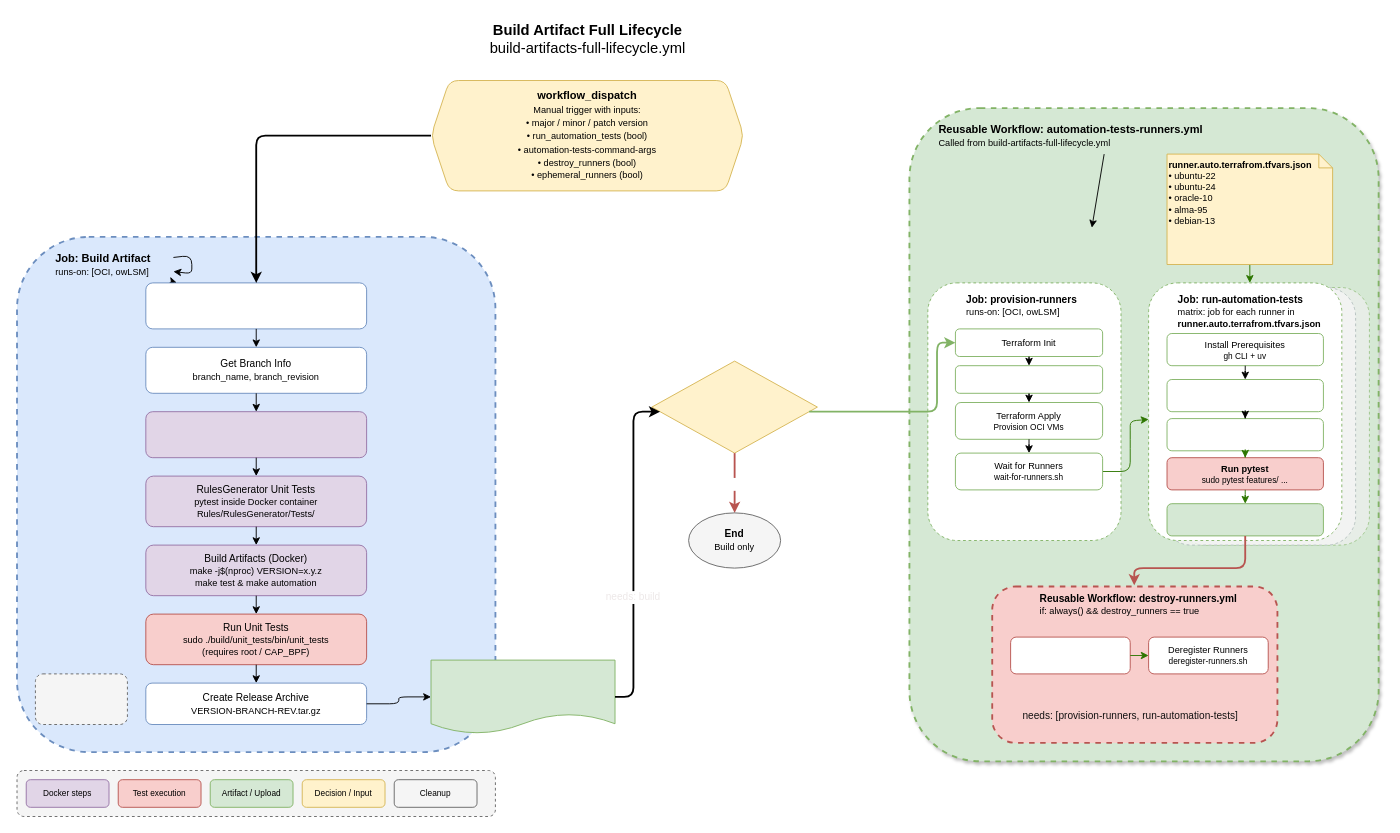
The diagram is 1400 pixels wide and 833 high, and some of its shapes have lost their labels. The centre of each missing label's shape, as x and y in pixels:
Build Docker Image owlsm-ci-ubuntu: pixel 256 434
Checkout Repository actions/checkout@v4: pixel 256 305
Cleanup docker rmi + git clean (always runs): pixel 80 698
Download Artifact GH API → /opt/owLSM: pixel 1244 395
run_automation_tests == true?: pixel 734 406
Setup venv & deps uv pip install -r requirements.txt: pixel 1244 434
Terraform Destroy Remove OCI VMs: pixel 1070 655
Terraform Plan: pixel 1028 379
Upload Artifact actions/upload-artifact@v4 retention: 30 days: pixel 522 696
Upload Test Results results.xml (always): pixel 1244 519
